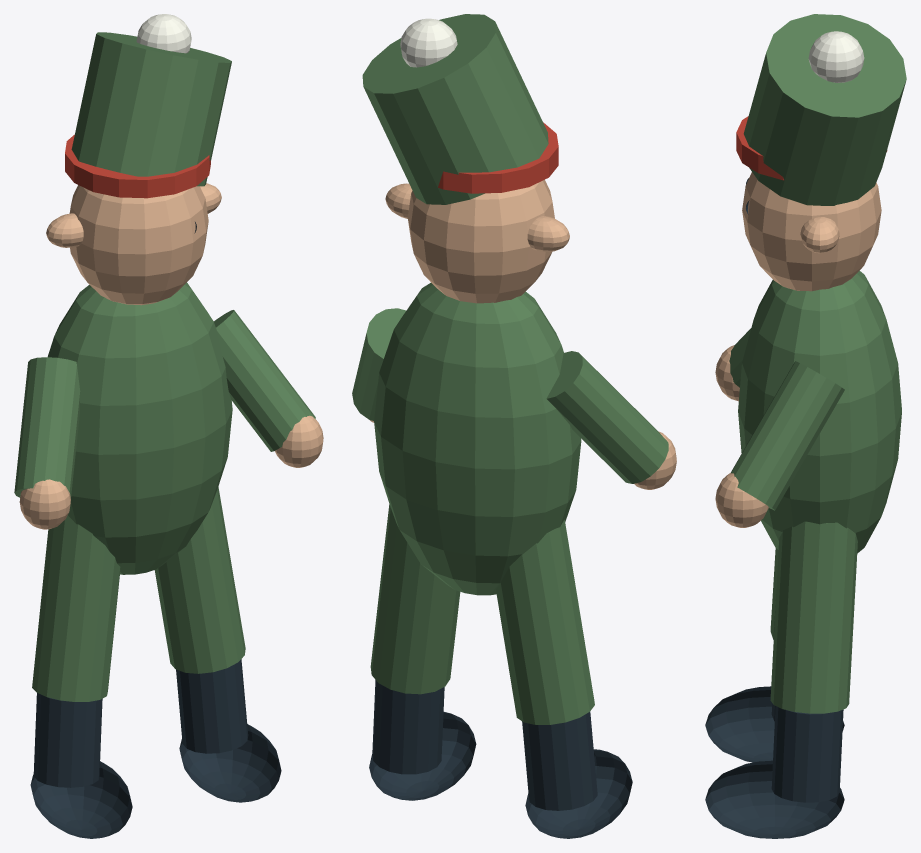
The model's file is scendance-plan-elf.glb.
The picture shows the model from 3 angles, left to right: view 1: azimuth 30°, elevation 25°; view 2: azimuth 150°, elevation 25°; view 3: azimuth 270°, elevation 25°; orthographic projection. The views are drawn at different scales.
Size of the model in its own units: 0.856 by 2.1 by 0.4914.
